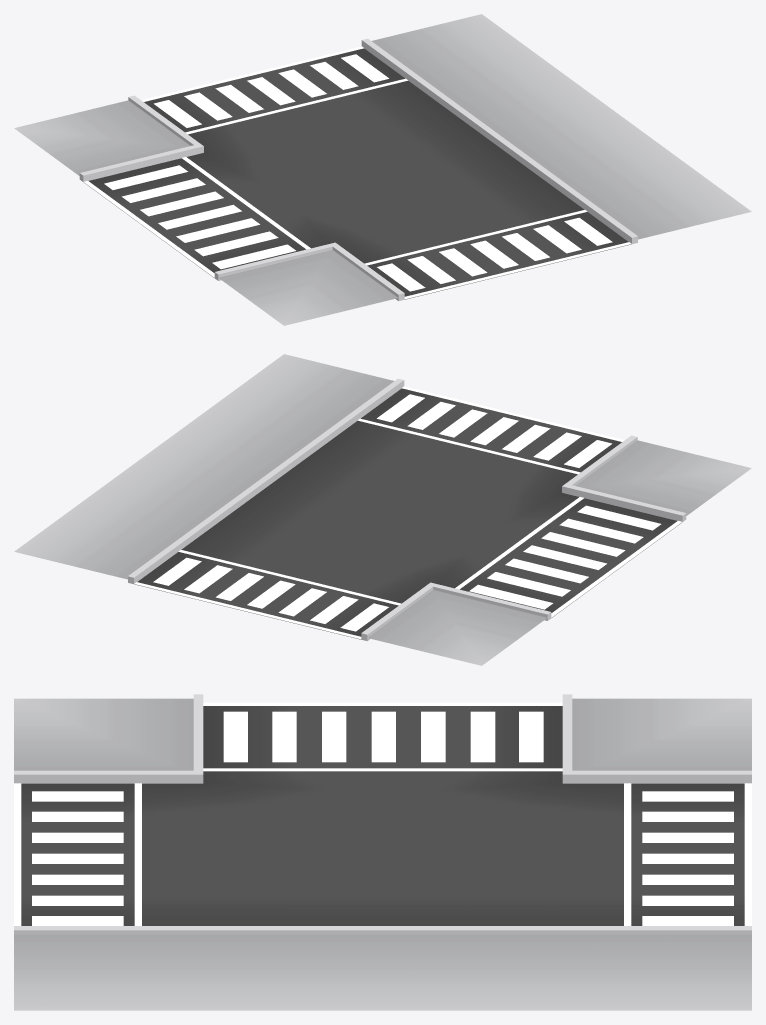
The model's file is city2-road-026.glb.
3 views of the same model, one above another, from view 1: azimuth 30°, elevation 25°; view 2: azimuth 150°, elevation 25°; view 3: azimuth 270°, elevation 25° (orthographic). The views are drawn at different scales.
Parts seen in each view (by area): view 1: road_026; view 2: road_026; view 3: road_026.
Part boxes in pixels (x1,y1,x2,y2): road_026: [14, 14, 751, 325]; road_026: [14, 354, 751, 665]; road_026: [14, 694, 751, 1010].
Bounding box in the file's own units: 15 × 0.2 × 15.
Materials: 1 (1 with a texture image).
